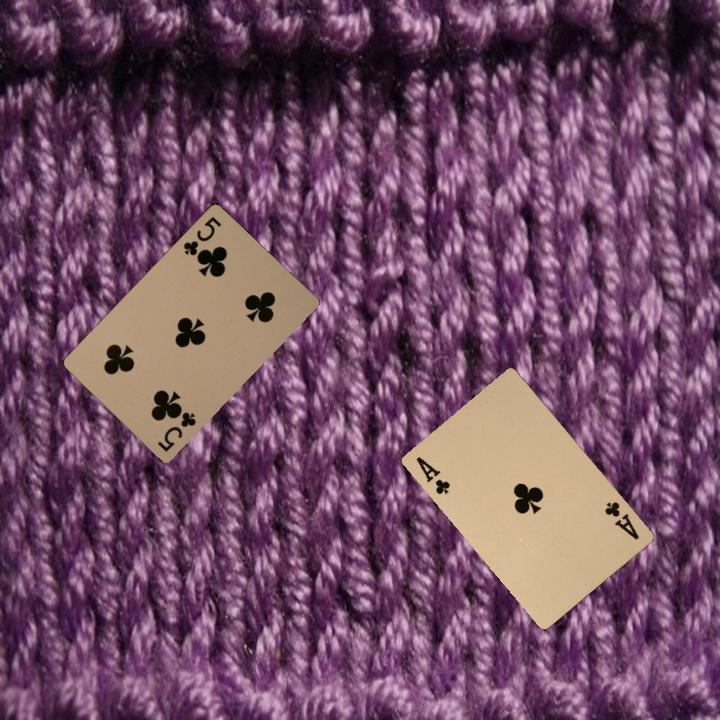5c: (179, 212, 224, 260), (154, 407, 199, 454)
Ac: (600, 498, 642, 542), (412, 452, 453, 497)
